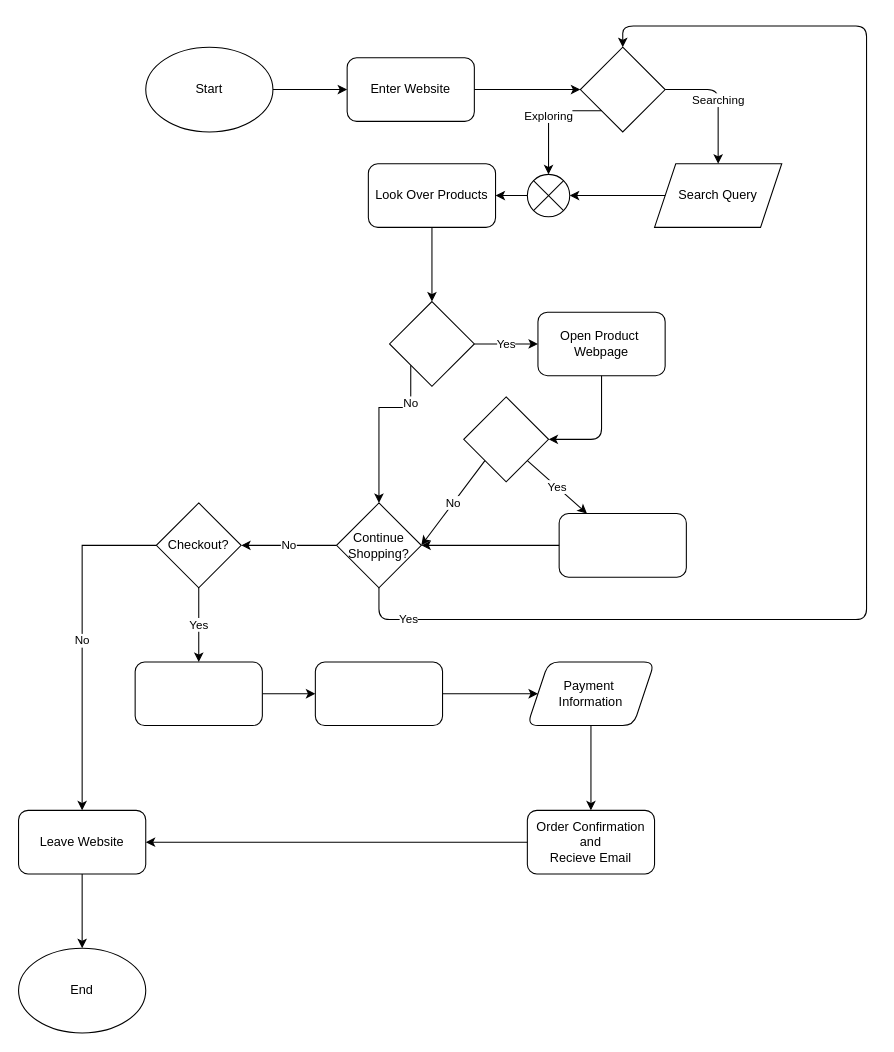
This 894x1052 diagram has some shape labels left out. Here are the shapes that lost their labels. From the top down, the box of each, then its label:
(579, 46, 665, 132): Searching or Exploring
(388, 301, 474, 386): View Product?
(463, 396, 549, 482): Add Item?
(558, 513, 686, 577): Receive Item Addition Confirmation
(134, 661, 262, 726): View Cart
(314, 661, 443, 726): View Payment
